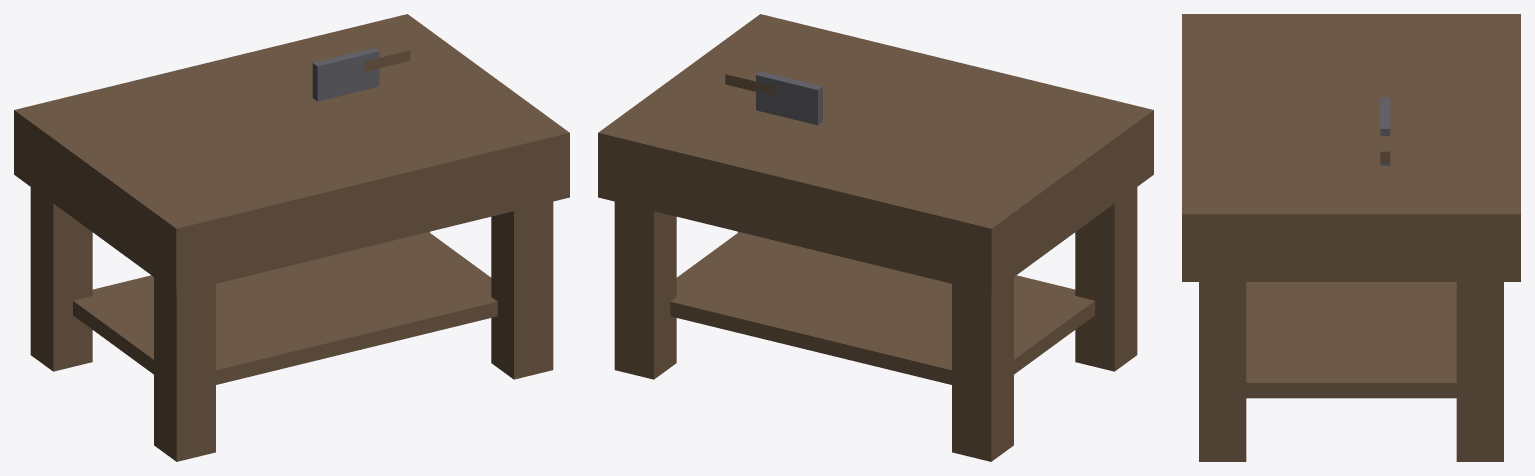
Rendered from ButcherBlock.fbx.
3 views of the same model, side by side, from view 1: azimuth 30°, elevation 25°; view 2: azimuth 150°, elevation 25°; view 3: azimuth 270°, elevation 25° (orthographic). The views are drawn at different scales.
Parts seen in each view (by area): view 1: ButcherBlock; view 2: ButcherBlock; view 3: ButcherBlock.
Boxes of the visible parts, <box> form: ButcherBlock: <box>14,14,569,461</box>; ButcherBlock: <box>598,14,1153,461</box>; ButcherBlock: <box>1182,14,1520,461</box>.
Bounding box in the file's own units: 1.4 × 0.94 × 1.
